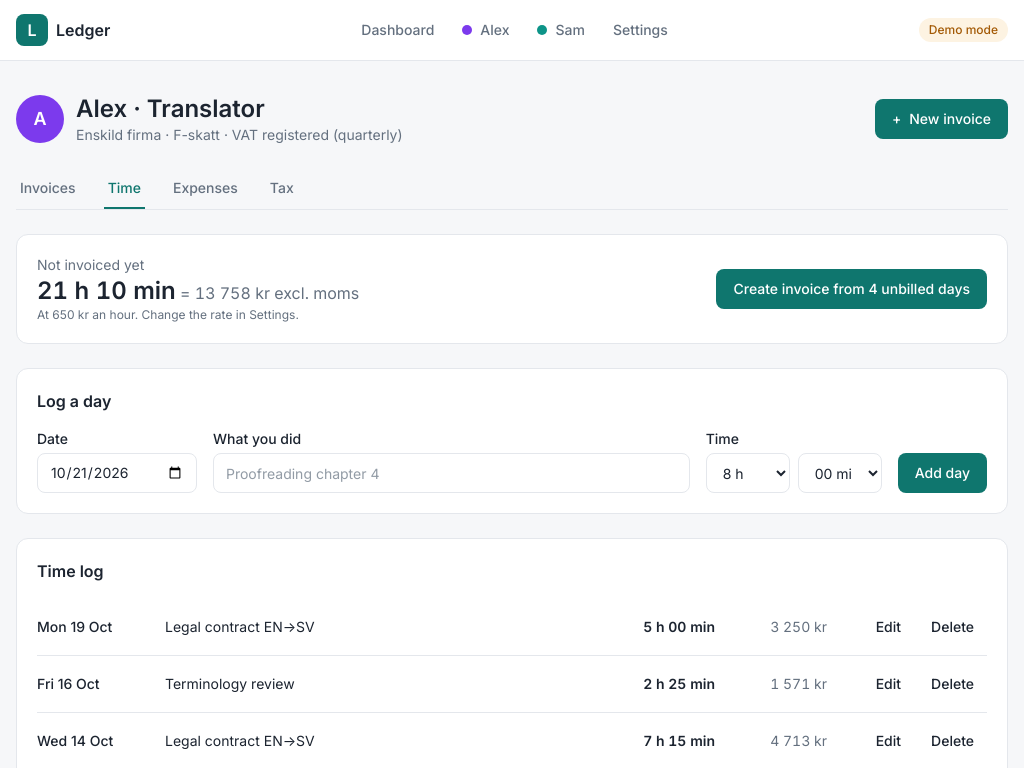
Test case: Invoice editor › numbers the invoice when it is marked as sent
Click the button "Create invoice from 4 unbilled days": (852, 289) [716,269,987,309]
(page scrolled)
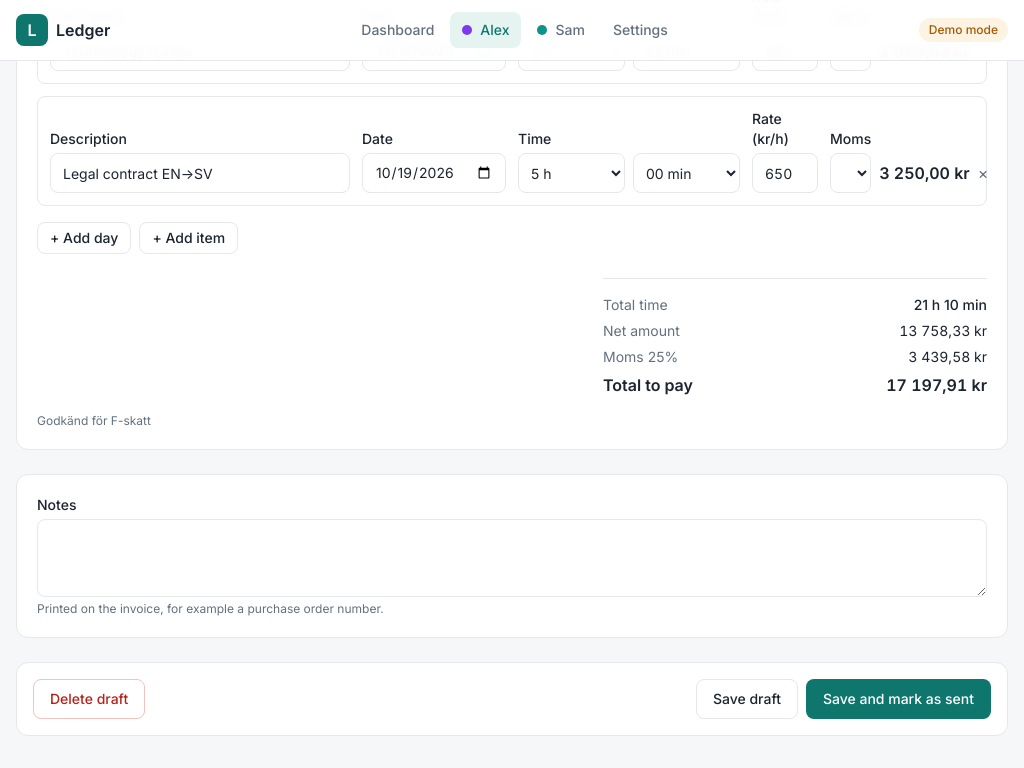
Click the button "Save and mark as sent": (898, 699) [806,679,991,719]
(page scrolled)
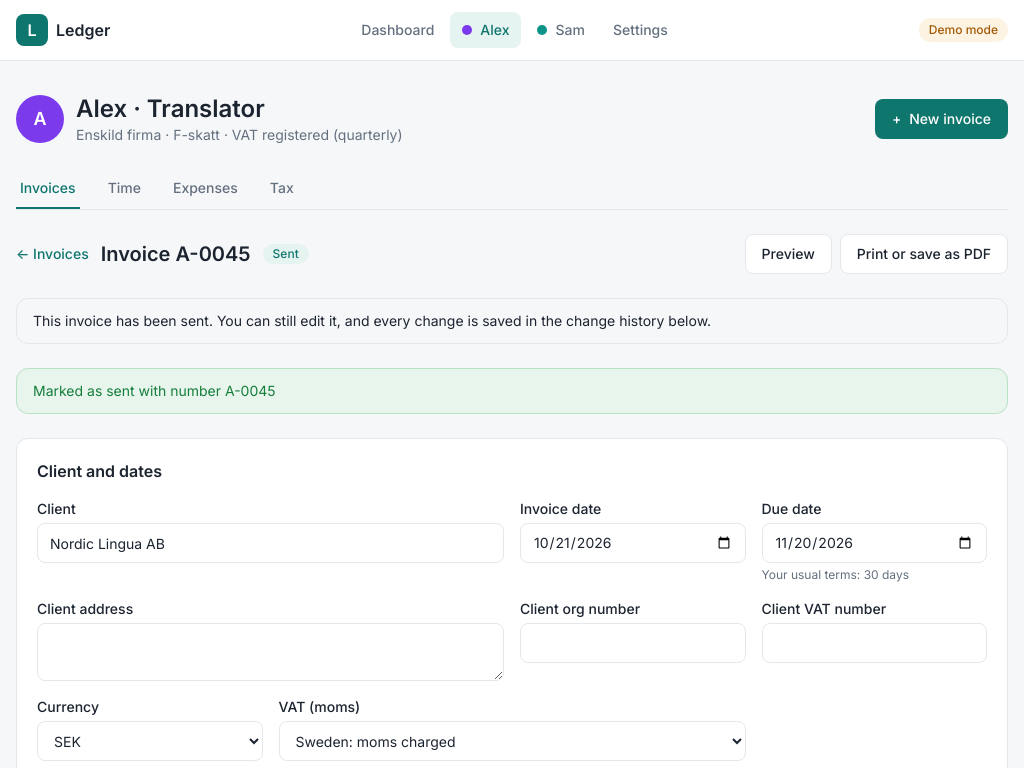
Check: the heading "Invoice A-0045" is shown, box [101,240,251,268]
